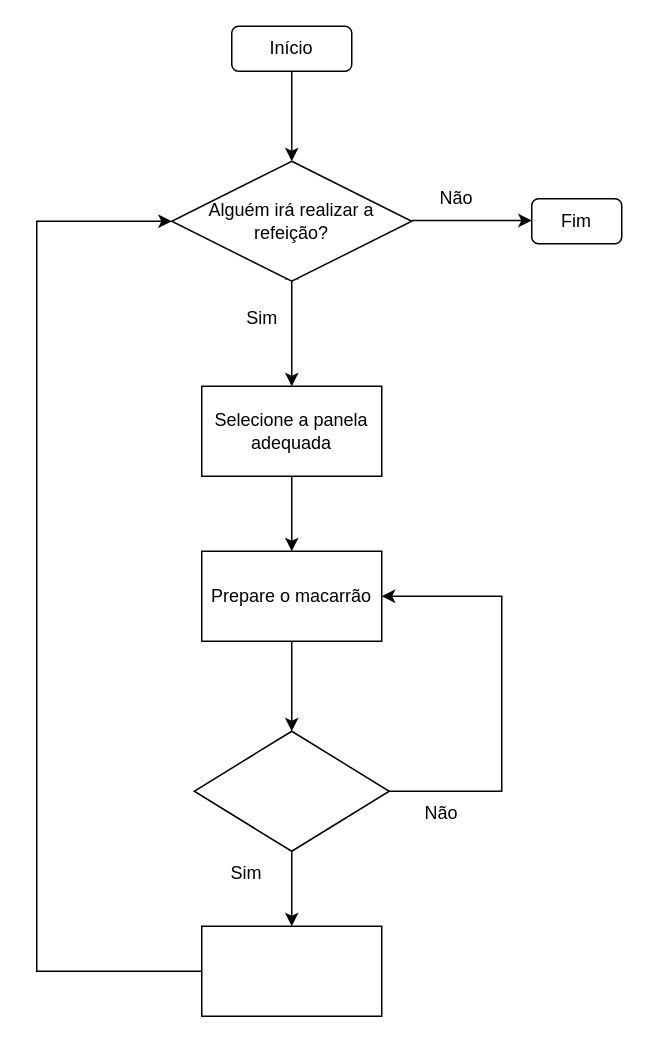
Image size: 648x1043. Some labels were removed from this diagram. Each missing label, with the centre of its shape:
"O macarrão está pronto?" belongs at point (291, 790).
"Servir" belongs at point (291, 970).
